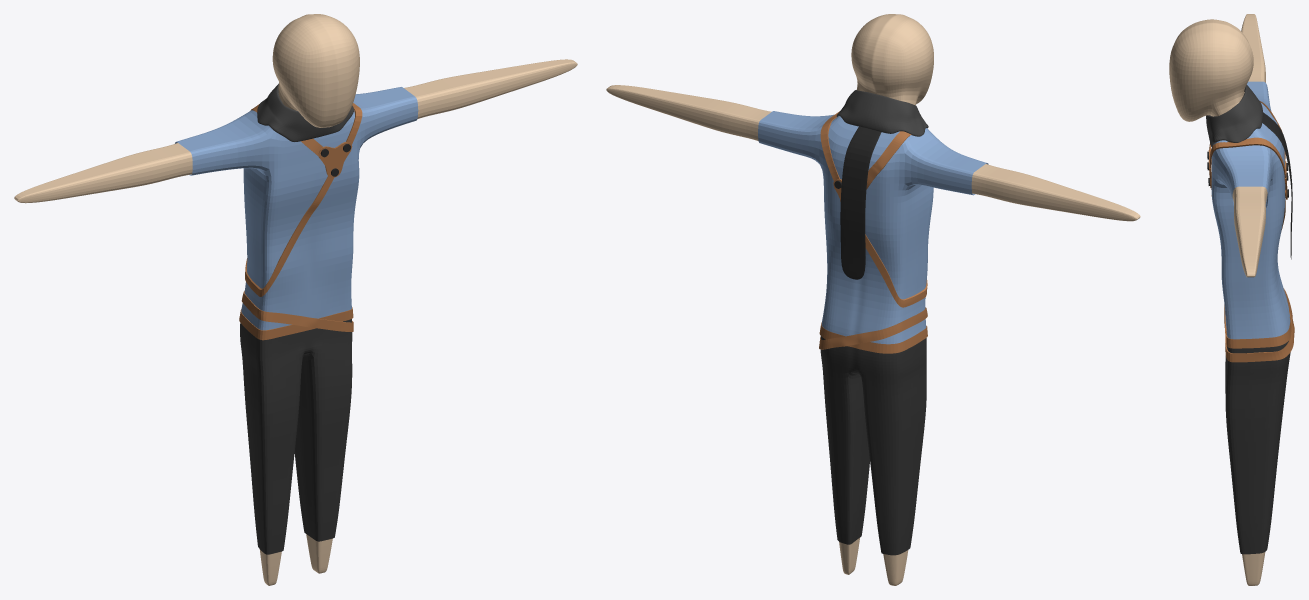
The model's file is ReRiggedGrayCharacter7-2-2018.fbx.
3 views of the same model, side by side, from view 1: azimuth 30°, elevation 25°; view 2: azimuth 150°, elevation 25°; view 3: azimuth 270°, elevation 25° (orthographic). The views are drawn at different scales.
Parts seen in each view (by area): view 1: Shirt, Pants, Body, Scarf, SashStrap1, BeltStrap2, BeltStrap1; view 2: Shirt, Pants, Body, ScarfTail, Scarf, SashStrap1, BeltStrap2, BeltStrap1; view 3: Shirt, Body, Pants, Scarf, BeltStrap2, BeltStrap1, SashStrap1, ScarfTail.
Boxes of the visible parts, x1=… form: Shirt: x1=175, y1=87, x2=418, y2=330; Pants: x1=240, y1=319, x2=352, y2=554; Body: x1=14, y1=14, x2=577, y2=585; Scarf: x1=257, y1=83, x2=353, y2=141; SashStrap1: x1=245, y1=103, x2=362, y2=296; BeltStrap2: x1=241, y1=291, x2=353, y2=331; BeltStrap1: x1=239, y1=307, x2=353, y2=340; Shirt: x1=758, y1=111, x2=988, y2=344; Pants: x1=820, y1=336, x2=926, y2=555; Body: x1=606, y1=14, x2=1140, y2=585; ScarfTail: x1=840, y1=126, x2=881, y2=279; Scarf: x1=836, y1=90, x2=928, y2=136; SashStrap1: x1=820, y1=111, x2=927, y2=307; BeltStrap2: x1=819, y1=307, x2=927, y2=349; BeltStrap1: x1=819, y1=322, x2=927, y2=353; Shirt: x1=1211, y1=81, x2=1290, y2=339; Body: x1=1169, y1=14, x2=1267, y2=585; Pants: x1=1225, y1=341, x2=1290, y2=554; Scarf: x1=1206, y1=85, x2=1263, y2=146; BeltStrap2: x1=1224, y1=288, x2=1294, y2=362; BeltStrap1: x1=1225, y1=316, x2=1290, y2=348; SashStrap1: x1=1209, y1=137, x2=1285, y2=229; ScarfTail: x1=1262, y1=112, x2=1292, y2=259.
Bounding box in the file's own units: 1233 × 1211 × 250.
